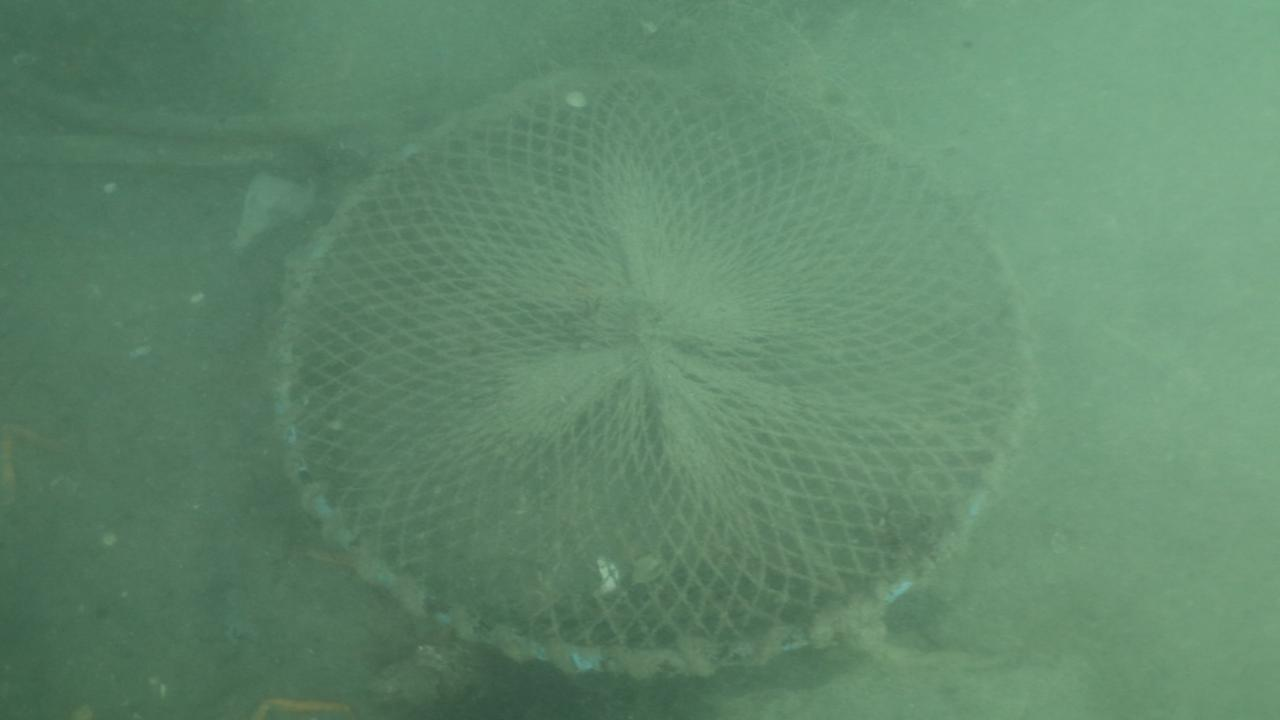circular fish trap: (255, 53, 1050, 682)
